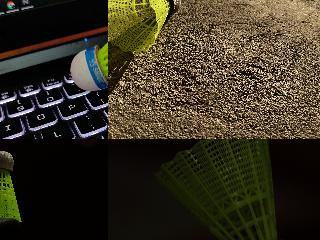shuttlecock: (153, 139, 297, 239), (108, 0, 181, 54), (70, 0, 107, 90), (0, 151, 22, 222)
